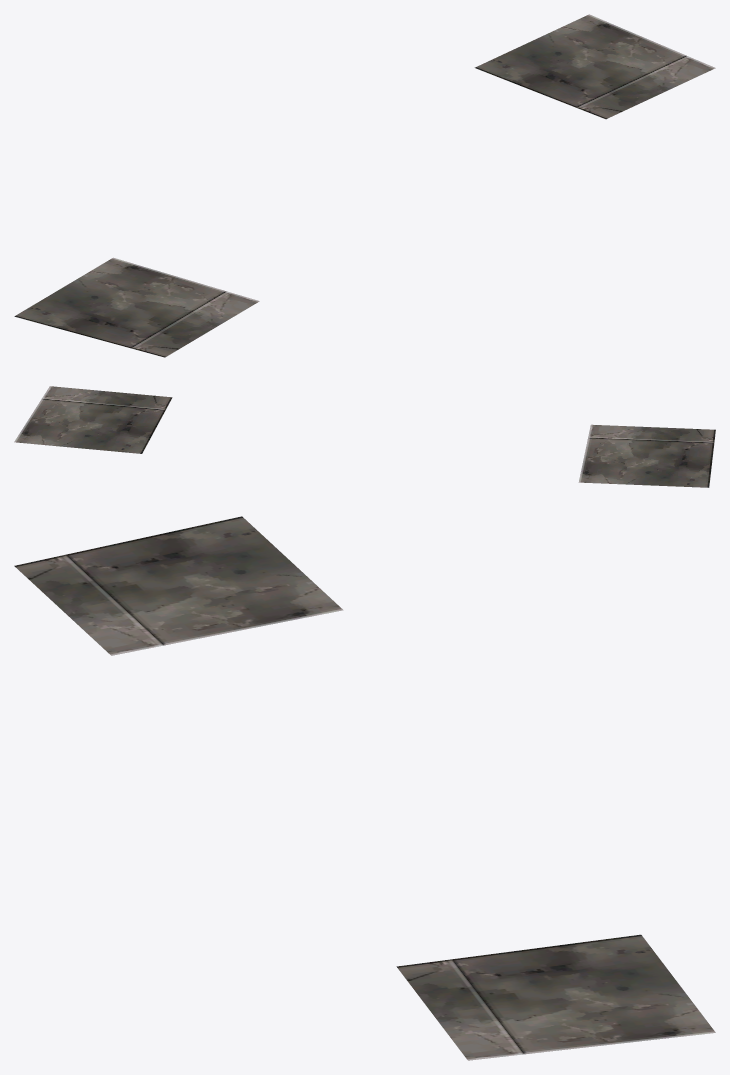
The model's file is CH09_SMAUG_PLAYSURFACE_LAIR147.fbx.
3 views of the same model, one above another, from view 1: azimuth 30°, elevation 25°; view 2: azimuth 150°, elevation 25°; view 3: azimuth 270°, elevation 25° (orthographic). The views are drawn at different scales.
Parts seen in each view (by area): view 1: CH09_SMAUG_PLAYSURFACE_LAIR147; view 2: CH09_SMAUG_PLAYSURFACE_LAIR147; view 3: CH09_SMAUG_PLAYSURFACE_LAIR147.
Part boxes in pixels (x1,y1,x2,y2): CH09_SMAUG_PLAYSURFACE_LAIR147: (14, 14, 715, 357); CH09_SMAUG_PLAYSURFACE_LAIR147: (14, 386, 715, 487); CH09_SMAUG_PLAYSURFACE_LAIR147: (14, 516, 715, 1060).
Bounding box in the file's own units: 55355 × 0.00491 × 30165.
1 material, 1 textured.
